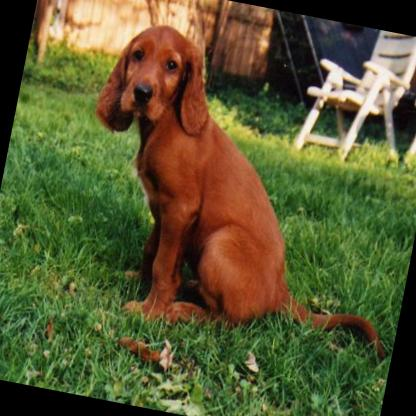Irish_setter: (55, 12, 416, 369)
